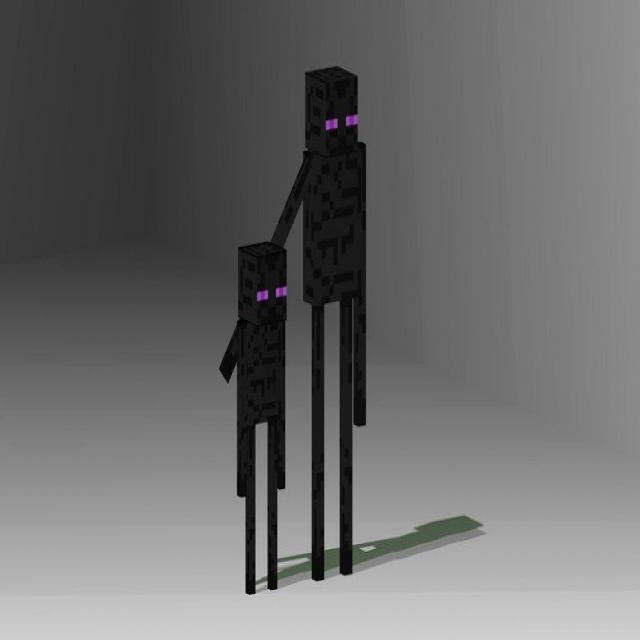Enderman: (295, 58, 369, 591), (233, 240, 286, 597)
